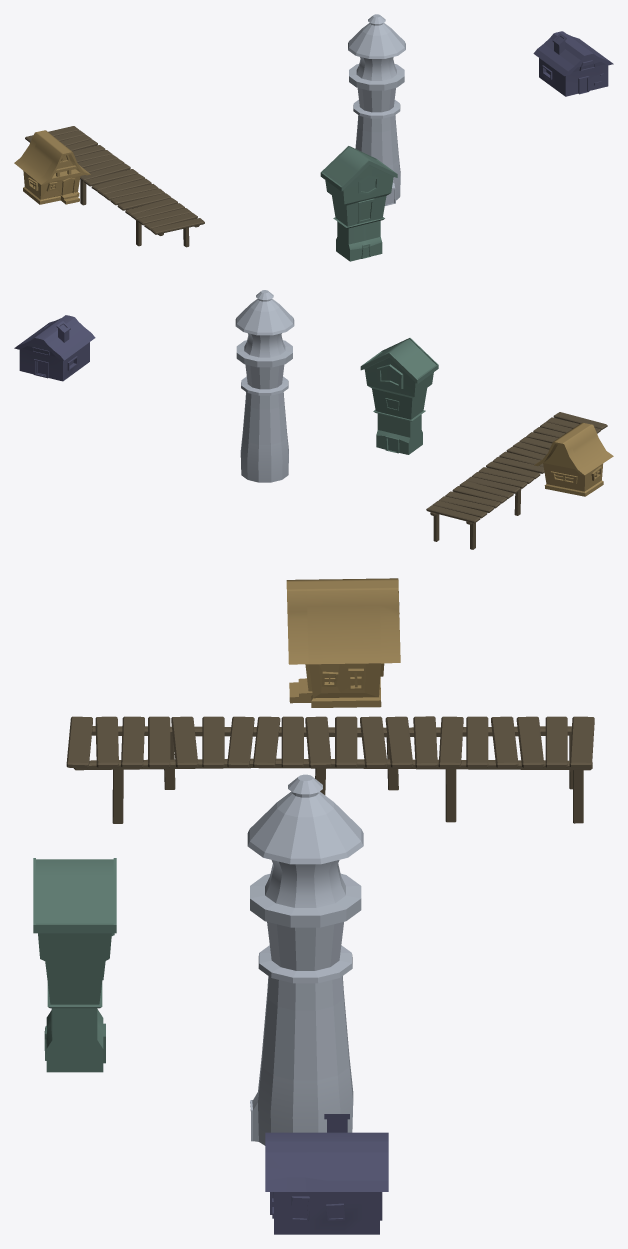
Rendered from placeholder01.fbx.
3 views of the same model, one above another, from view 1: azimuth 30°, elevation 25°; view 2: azimuth 150°, elevation 25°; view 3: azimuth 270°, elevation 25° (orthographic). The views are drawn at different scales.
Parts seen in each view (by area): view 1: lighthouse1, brygga1, Torn2, hus3, hus4; view 2: lighthouse1, brygga1, Torn2, hus3, hus4; view 3: lighthouse1, brygga1, Torn2, hus3, hus4.
Part boxes in pixels (bbox=[...]): lighthouse1: bbox=[348, 14, 405, 205]; brygga1: bbox=[25, 126, 204, 247]; Torn2: bbox=[320, 146, 397, 261]; hus3: bbox=[14, 130, 90, 204]; hus4: bbox=[533, 31, 613, 96]; lighthouse1: bbox=[235, 290, 294, 482]; brygga1: bbox=[426, 412, 607, 549]; Torn2: bbox=[360, 338, 438, 454]; hus3: bbox=[534, 422, 613, 496]; hus4: bbox=[14, 315, 95, 381]; lighthouse1: bbox=[247, 774, 363, 1145]; brygga1: bbox=[66, 716, 594, 823]; Torn2: bbox=[33, 858, 116, 1072]; hus3: bbox=[286, 578, 400, 707]; hus4: bbox=[265, 1114, 388, 1234].
Size of the model in its own units: 36.65 by 11.05 by 15.71.
